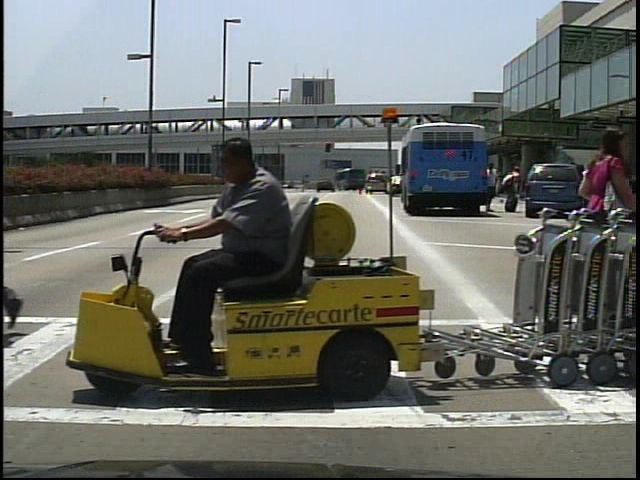person: (171, 135, 299, 374), (576, 119, 638, 350), (480, 162, 501, 215), (580, 164, 601, 214), (504, 164, 523, 217), (3, 100, 4, 337)
